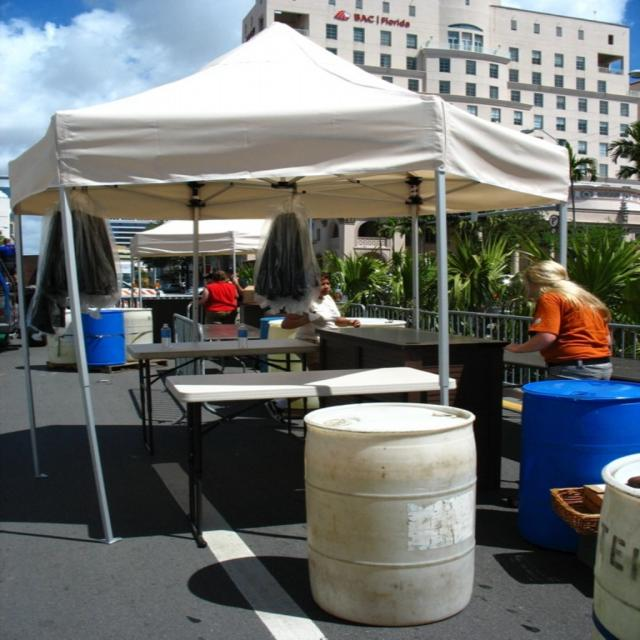desk: (164, 364, 456, 546)
person: (503, 259, 614, 382), (197, 270, 240, 324)
